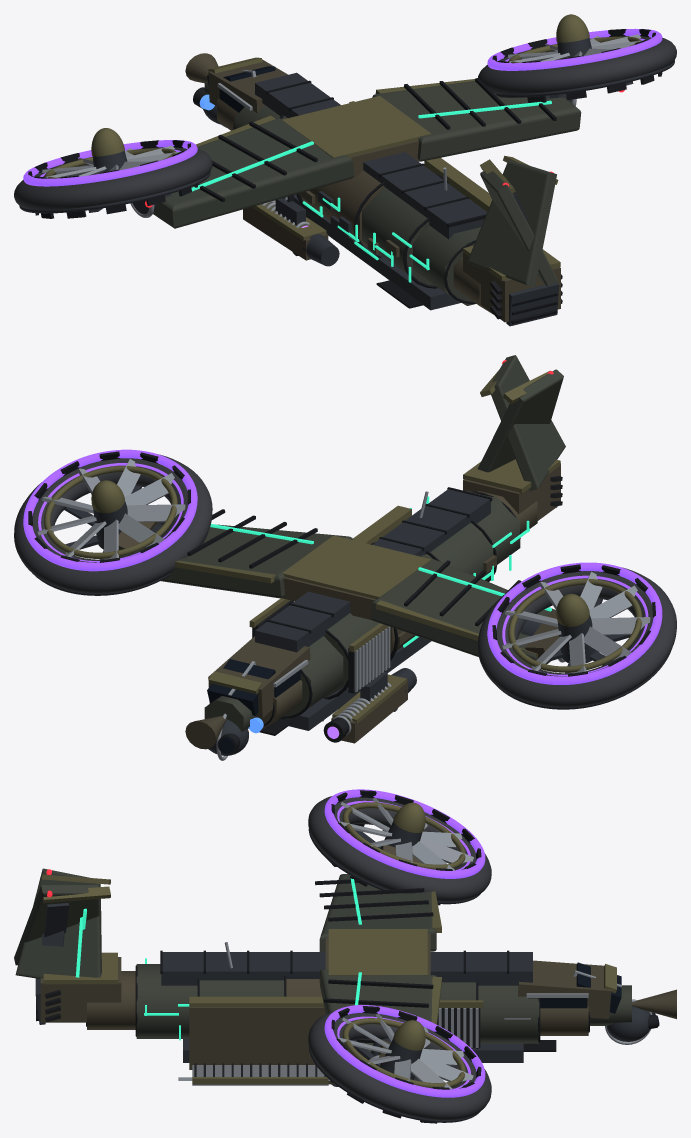
File: dropship.glb
The picture shows the model from 3 angles, top to bottom: view 1: azimuth 30°, elevation 25°; view 2: azimuth 150°, elevation 25°; view 3: azimuth 270°, elevation 25°; orthographic projection. The views are drawn at different scales.
Visible parts, largest first — view 1: wing_port_plank, wing_stbd_plank, dorsal_fairing, tail_fin_port_plank, wing_centre_skin, wing_port_shroud, wing_stbd_shroud, hull_seg_5, hull_seg_6, belly_keel, wing_port_glow_rim, wing_stbd_glow_rim (+23 smaller); view 2: wing_port_shroud, wing_stbd_shroud, dorsal_fairing, wing_port_plank, wing_stbd_plank, wing_centre_skin, tail_fin_port_plank, wing_port_glow_rim, wing_stbd_glow_rim, tail_fin_stbd_plank, cockpit_shell, wing_port_lip_in (+32 smaller); view 3: dorsal_fairing, bay_frame, wing_stbd_shroud, wing_port_shroud, wing_centre_skin, tail_fin_stbd_plank, wing_port_plank, hull_seg_6, wing_stbd_plank, hull_seg_2, cockpit_shell, wing_stbd_glow_rim (+32 smaller).
Boxes of the visible parts, bbox=[...] form: wing_port_plank: bbox=[153, 117, 354, 228]; wing_stbd_plank: bbox=[372, 81, 581, 161]; dorsal_fairing: bbox=[255, 72, 487, 239]; tail_fin_port_plank: bbox=[467, 160, 556, 286]; wing_centre_skin: bbox=[282, 96, 431, 158]; wing_port_shroud: bbox=[14, 147, 212, 209]; wing_stbd_shroud: bbox=[478, 36, 676, 94]; hull_seg_5: bbox=[362, 187, 434, 288]; hull_seg_6: bbox=[413, 225, 480, 305]; belly_keel: bbox=[293, 194, 461, 310]; wing_port_glow_rim: bbox=[23, 140, 197, 186]; wing_stbd_glow_rim: bbox=[487, 28, 662, 70]; wing_port_shroud: bbox=[477, 567, 676, 707]; wing_stbd_shroud: bbox=[14, 454, 212, 593]; dorsal_fairing: bbox=[255, 489, 490, 652]; wing_port_plank: bbox=[371, 554, 556, 664]; wing_stbd_plank: bbox=[119, 524, 352, 598]; wing_centre_skin: bbox=[282, 535, 431, 598]; tail_fin_port_plank: bbox=[491, 355, 565, 491]; wing_port_glow_rim: bbox=[487, 562, 662, 684]; wing_stbd_glow_rim: bbox=[23, 449, 197, 571]; tail_fin_stbd_plank: bbox=[477, 369, 563, 472]; cockpit_shell: bbox=[208, 636, 310, 717]; wing_port_lip_in: bbox=[508, 578, 642, 672]; dorsal_fairing: bbox=[161, 952, 532, 985]; bay_frame: bbox=[189, 1007, 325, 1069]; wing_stbd_shroud: bbox=[308, 1011, 491, 1120]; wing_port_shroud: bbox=[308, 796, 491, 901]; wing_centre_skin: bbox=[328, 929, 427, 975]; tail_fin_stbd_plank: bbox=[15, 868, 101, 987]; wing_port_plank: bbox=[319, 874, 436, 951]; hull_seg_6: bbox=[136, 964, 197, 1038]; wing_stbd_plank: bbox=[319, 969, 436, 1078]; hull_seg_2: bbox=[478, 985, 539, 1043]; cockpit_shell: bbox=[518, 960, 611, 1018]; wing_stbd_glow_rim: bbox=[324, 1005, 485, 1097].
Bounding box in the file's own units: 22.82 × 6.93 × 21.41.
